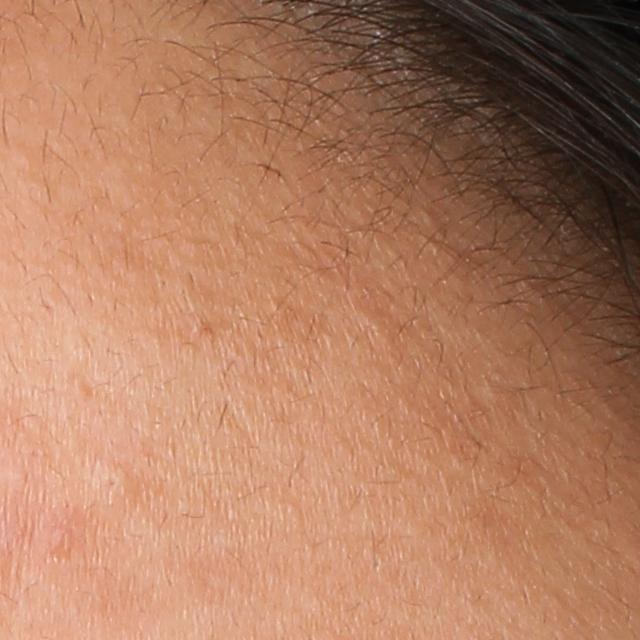comedo: (93, 459, 132, 511)
